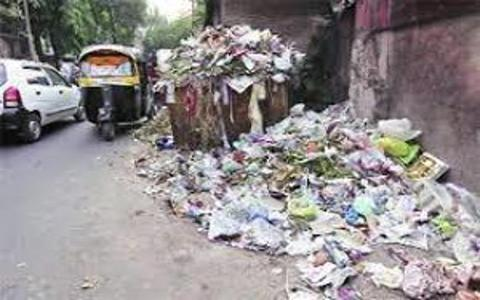overflowing garbage: (162, 30, 361, 284)
